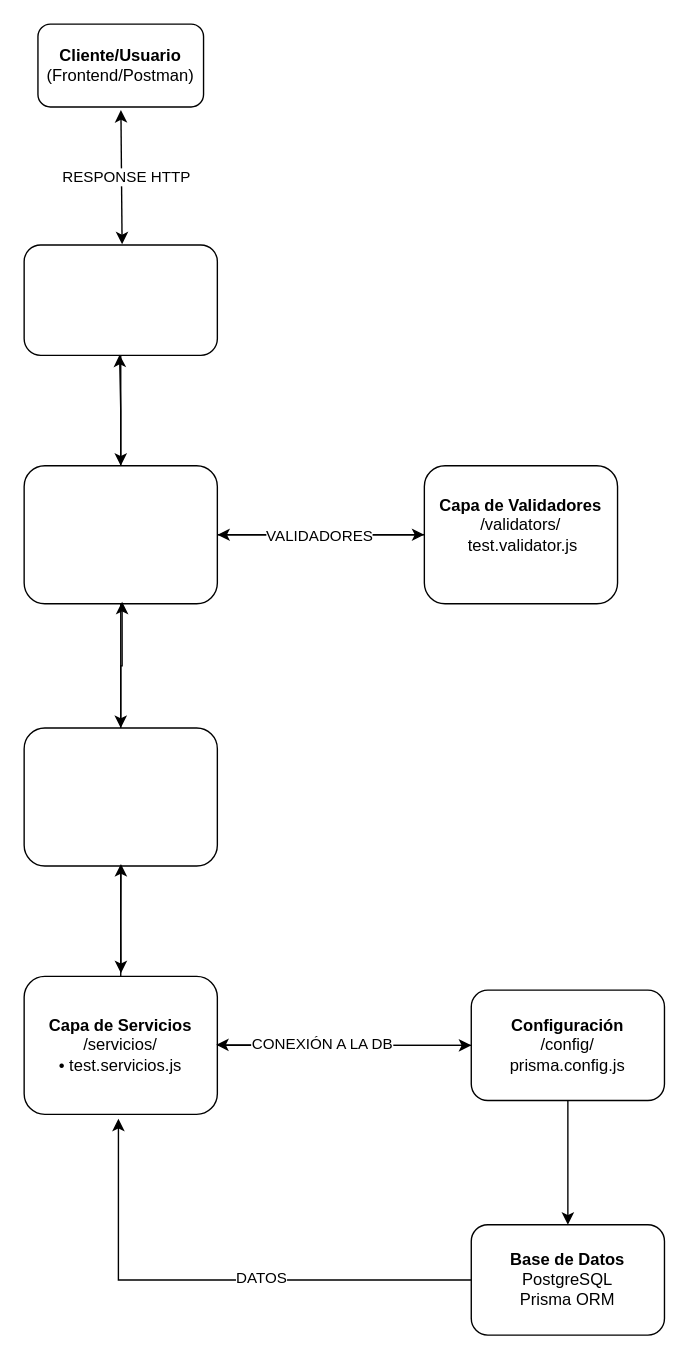
Some shapes in this 689 by 1359 pixel diagram are drawn without their labels. The box of each missing label's shape, as (x1, y1, x2, y2) in pixels:
Capa de Controladores /controladores/ test.controladores.js: (23, 727, 217, 866)
Capa de Rutas /rutas/ test.route.js: (23, 464, 217, 604)
Servidor Express app.js & server.js: (23, 244, 217, 355)
